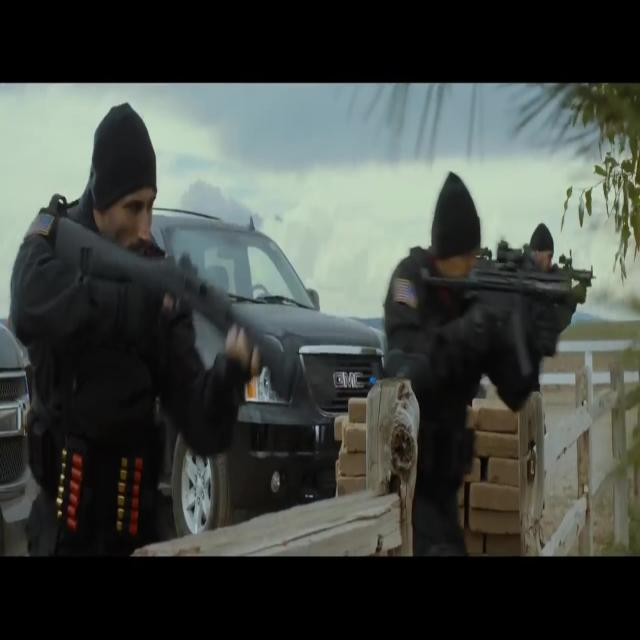Weapon: (54, 170, 332, 420), (412, 210, 623, 392), (39, 431, 173, 577)
